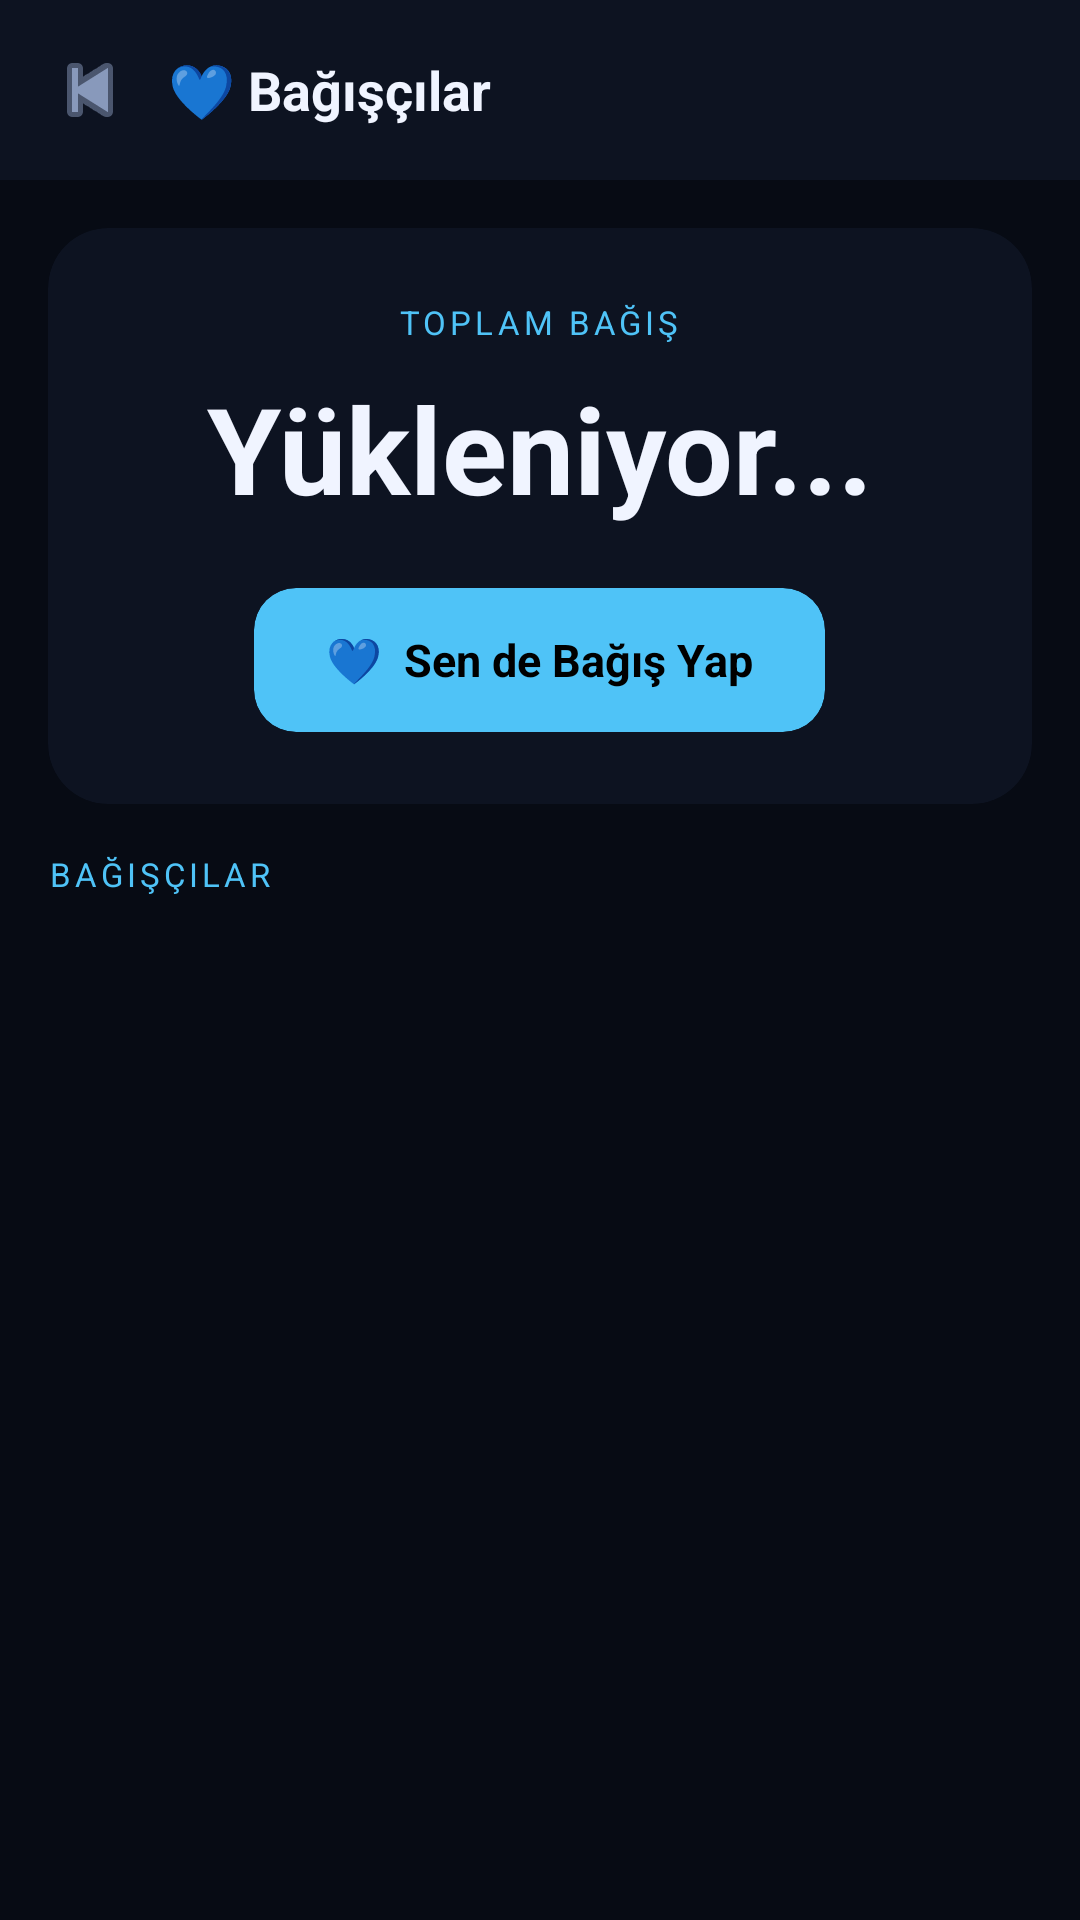

Screen size 1080px×1920px. Icon name, then its box in pixels as (left=x1, top=y1, right=x2, bottom=y2):
previous: (left=67, top=63, right=113, bottom=117)
